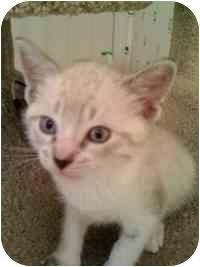siamese: (13, 34, 182, 198)
